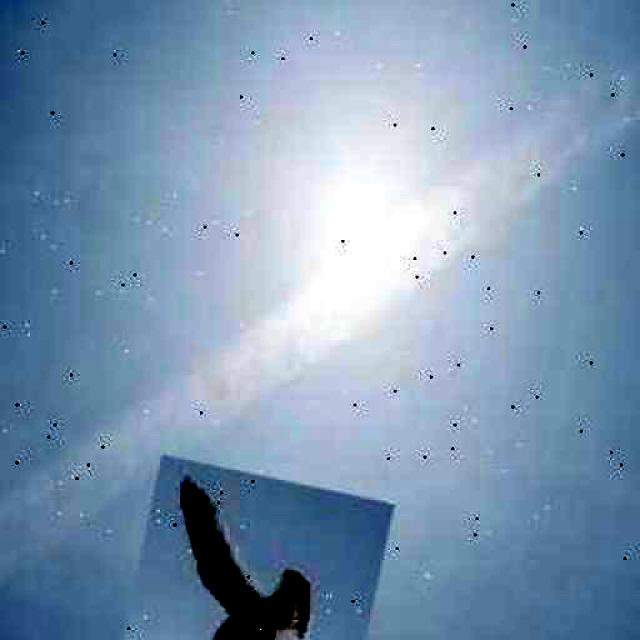airplane: (91, 454, 392, 640)
